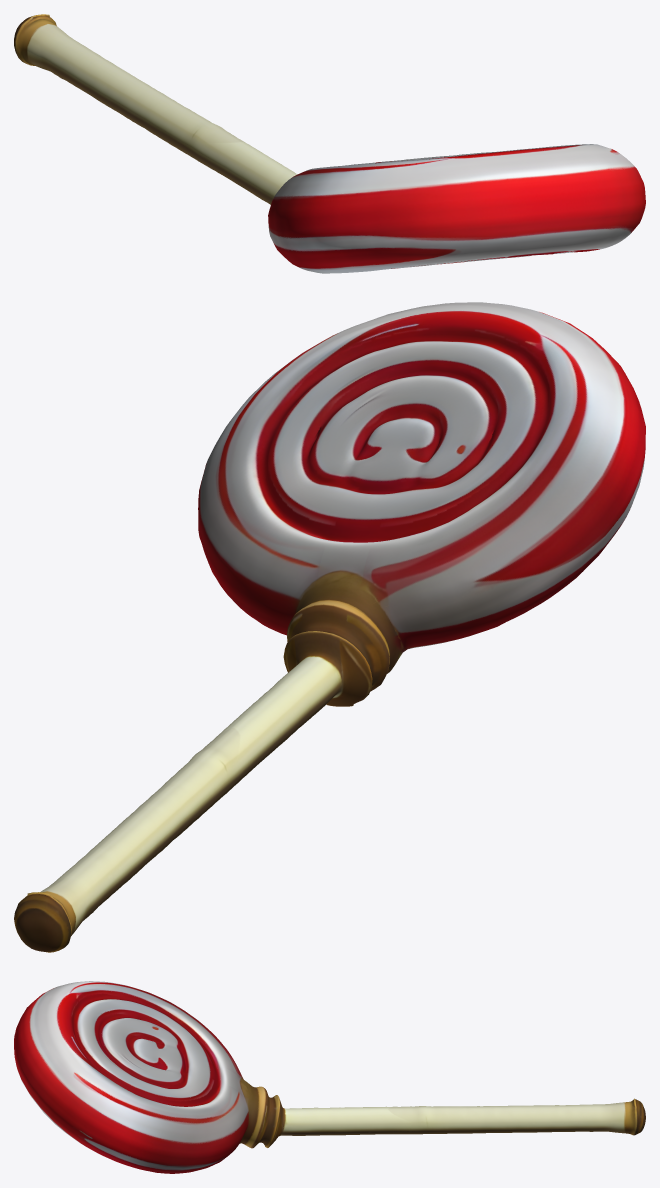
Rendered from lollipop sword.fbx.
3 views of the same model, one above another, from view 1: azimuth 30°, elevation 25°; view 2: azimuth 150°, elevation 25°; view 3: azimuth 270°, elevation 25° (orthographic). The views are drawn at different scales.
Parts seen in each view (by area): view 1: Lollipop Sword; view 2: Lollipop Sword; view 3: Lollipop Sword.
Part boxes in pixels (<box>): Lollipop Sword: <box>14,14,645,273</box>; Lollipop Sword: <box>14,302,645,952</box>; Lollipop Sword: <box>14,981,645,1173</box>.
Bounding box in the file's own units: 39.38 × 23.67 × 94.6.
